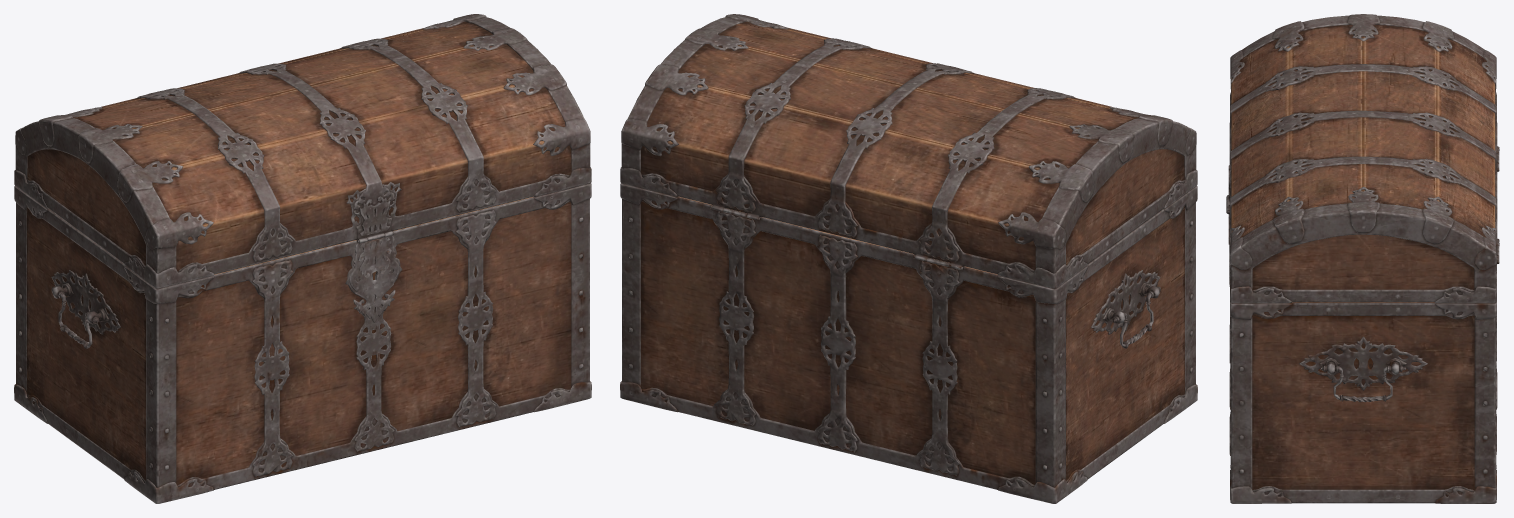
File: treasure_chest_lod1.glb
3 views of the same model, side by side, from view 1: azimuth 30°, elevation 25°; view 2: azimuth 150°, elevation 25°; view 3: azimuth 270°, elevation 25° (orthographic). The views are drawn at different scales.
Visible parts, largest first — view 1: treasure_chest_bottom, treasure_chest_lid, treasure_chest_lock; view 2: treasure_chest_bottom, treasure_chest_lid; view 3: treasure_chest_lid, treasure_chest_bottom, treasure_chest_handle_right.
Part boxes in pixels (bbox=[...]): treasure_chest_bottom: bbox=[14, 183, 591, 503]; treasure_chest_lid: bbox=[14, 14, 591, 288]; treasure_chest_lock: bbox=[349, 233, 399, 322]; treasure_chest_bottom: bbox=[620, 183, 1197, 503]; treasure_chest_lid: bbox=[620, 14, 1197, 288]; treasure_chest_lid: bbox=[1226, 14, 1499, 303]; treasure_chest_bottom: bbox=[1229, 152, 1499, 503]; treasure_chest_handle_right: bbox=[1320, 365, 1406, 402].
Size of the model in its own units: 0.959 by 0.6188 by 0.5226.
Materials: 1 (1 with a texture image).
